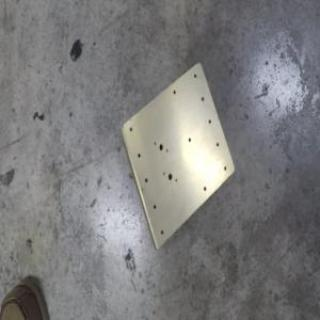MetalSheettrack_idkeyframe: (116, 58, 235, 253)
